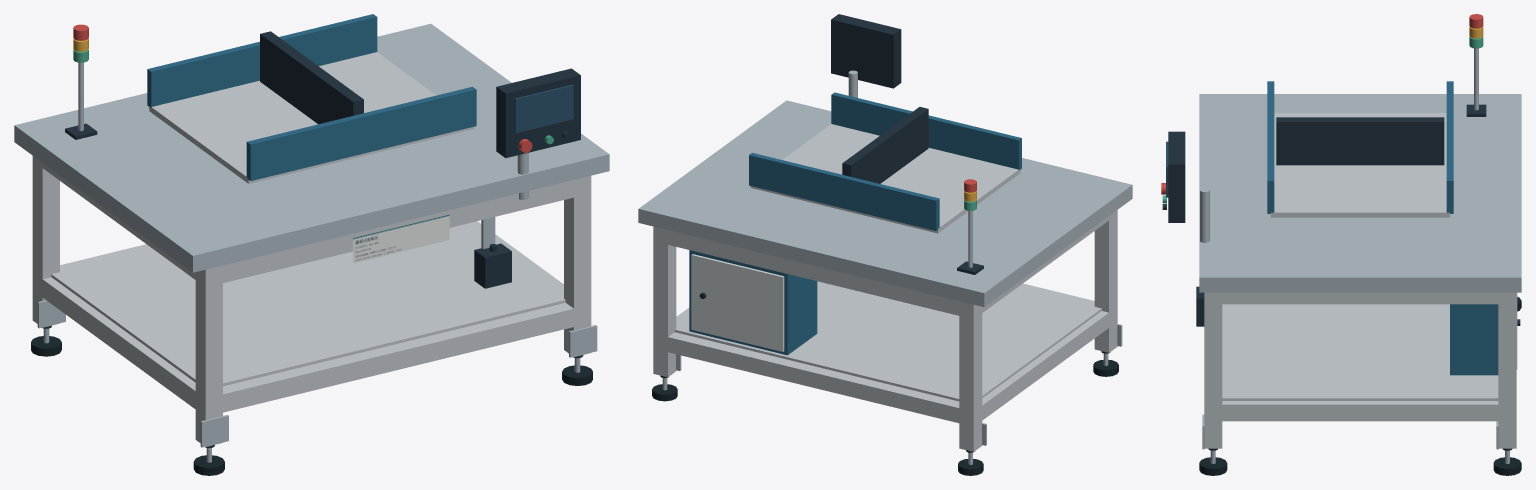
The model's file is flap-sorter-cell.glb.
The picture shows the model from 3 angles, left to right: view 1: azimuth 30°, elevation 25°; view 2: azimuth 150°, elevation 25°; view 3: azimuth 270°, elevation 25°; orthographic projection. The views are drawn at different scales.
Visible parts, largest first — view 1: ClosedMachineBed_28, LowerShelf_29, ChuteBed_48, SlottedExtrusion_22, ChuteRail_50, ChuteRail_49, SlottedExtrusion_23, GatePlate_51, SlottedExtrusion_24, SlottedExtrusion_8, ConsoleBack_34, SlottedExtrusion_18 (+7 smaller); view 2: ClosedMachineBed_28, LowerShelf_29, ChuteBed_48, BackDoor_31, SlottedExtrusion_20, ChuteRail_49, ChuteRail_50, SlottedExtrusion_21, ConsoleBack_34, GatePlate_51, SlottedExtrusion_3, Cabinet_30 (+4 smaller); view 3: ClosedMachineBed_28, LowerShelf_29, ChuteBed_48, GatePlate_51, SlottedExtrusion_26, SlottedExtrusion_27, Cabinet_30, SlottedExtrusion_18, SlottedExtrusion_13, ConsoleBack_34, ChuteRail_49, ChuteRail_50 (+3 smaller).
Boxes of the visible parts, x1,y1,x2,y2 form: ClosedMachineBed_28: [14, 23, 609, 272]; LowerShelf_29: [51, 222, 565, 386]; ChuteBed_48: [149, 52, 474, 183]; SlottedExtrusion_22: [214, 303, 582, 413]; ChuteRail_50: [246, 86, 476, 180]; ChuteRail_49: [147, 14, 377, 107]; SlottedExtrusion_23: [214, 178, 582, 284]; GatePlate_51: [260, 31, 363, 124]; SlottedExtrusion_24: [38, 276, 200, 412]; SlottedExtrusion_8: [195, 265, 222, 446]; ConsoleBack_34: [496, 68, 580, 158]; SlottedExtrusion_18: [564, 175, 591, 356]; ClosedMachineBed_28: [638, 100, 1132, 307]; LowerShelf_29: [674, 281, 1101, 401]; ChuteBed_48: [750, 124, 1020, 233]; BackDoor_31: [691, 254, 784, 351]; SlottedExtrusion_20: [668, 332, 963, 423]; ChuteRail_49: [749, 153, 939, 230]; ChuteRail_50: [831, 92, 1021, 170]; SlottedExtrusion_21: [660, 229, 966, 316]; ConsoleBack_34: [831, 14, 901, 88]; GatePlate_51: [842, 107, 928, 183]; SlottedExtrusion_3: [959, 301, 982, 451]; Cabinet_30: [689, 250, 817, 355]; ClosedMachineBed_28: [1199, 94, 1521, 292]; LowerShelf_29: [1222, 304, 1498, 400]; ChuteBed_48: [1270, 113, 1449, 217]; GatePlate_51: [1276, 117, 1444, 165]; SlottedExtrusion_26: [1213, 401, 1507, 421]; SlottedExtrusion_27: [1213, 292, 1507, 304]; Cabinet_30: [1450, 304, 1498, 375]; SlottedExtrusion_18: [1204, 292, 1222, 448]; SlottedExtrusion_13: [1498, 292, 1516, 448]; ConsoleBack_34: [1168, 131, 1185, 222]; ChuteRail_49: [1446, 81, 1453, 213]; ChuteRail_50: [1267, 81, 1274, 213].
Bounding box in the file's own units: 1.55 × 1.18 × 1.29.
11 materials, 1 textured.
